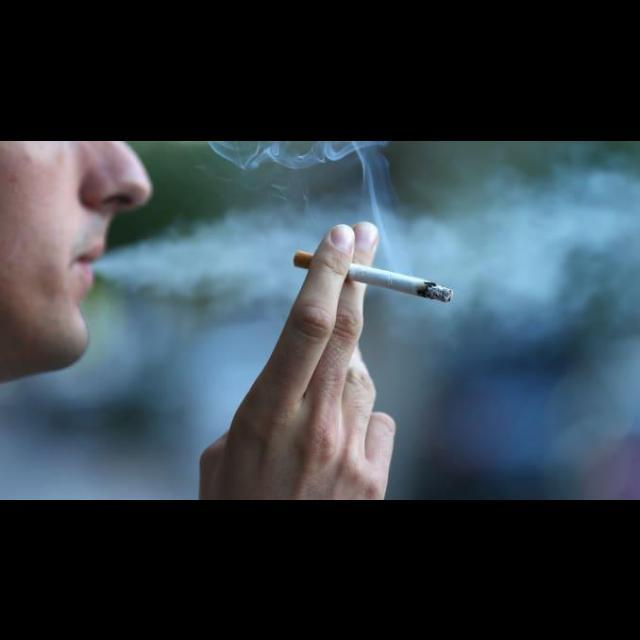rokok: (294, 244, 456, 306)
